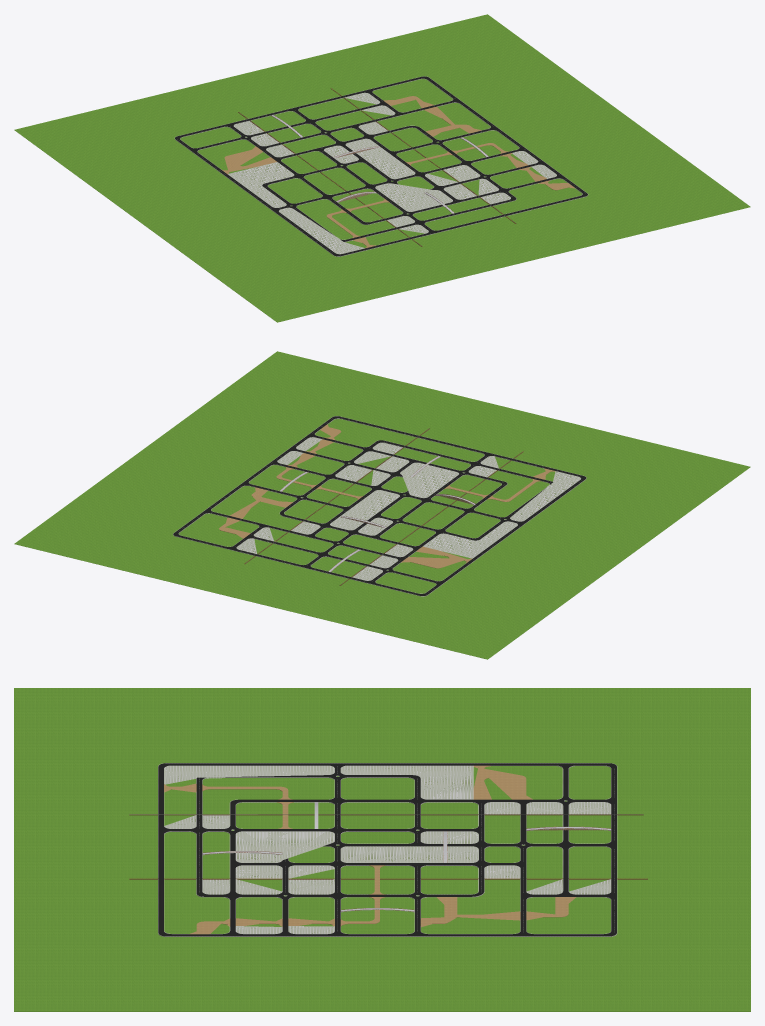
File: mert_race_it_17.06.2022.fbx
3 renders of one model, top to bottom at view 1: azimuth 30°, elevation 25°; view 2: azimuth 150°, elevation 25°; view 3: azimuth 270°, elevation 25°, orthographic. The views are drawn at different scales.
Parts seen in each view (by area): view 1: race_it_ways_last_16.06; view 2: race_it_ways_last_16.06; view 3: race_it_ways_last_16.06.
Boxes of the visible parts, x1,y1,x2,y2 form: race_it_ways_last_16.06: [14, 14, 750, 322]; race_it_ways_last_16.06: [14, 351, 750, 659]; race_it_ways_last_16.06: [14, 688, 750, 1011].
Bounding box in the file's own units: 38622 × 294 × 37179.
Materials: 10 (10 with a texture image).
